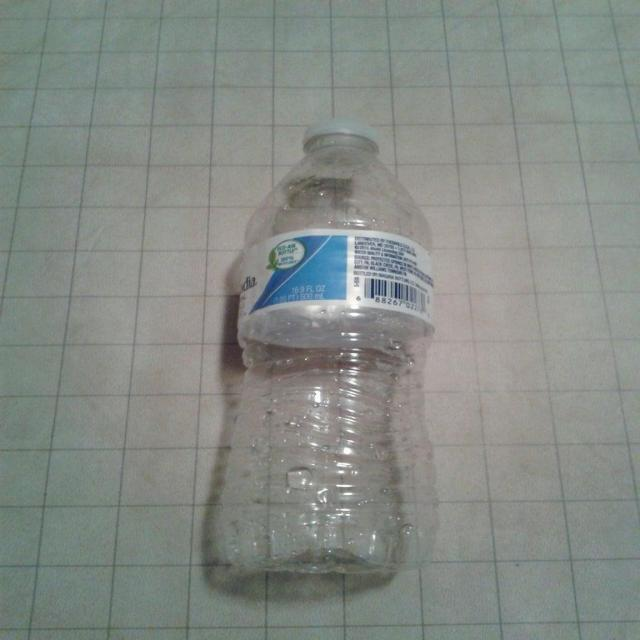bottle: (195, 120, 452, 631)
